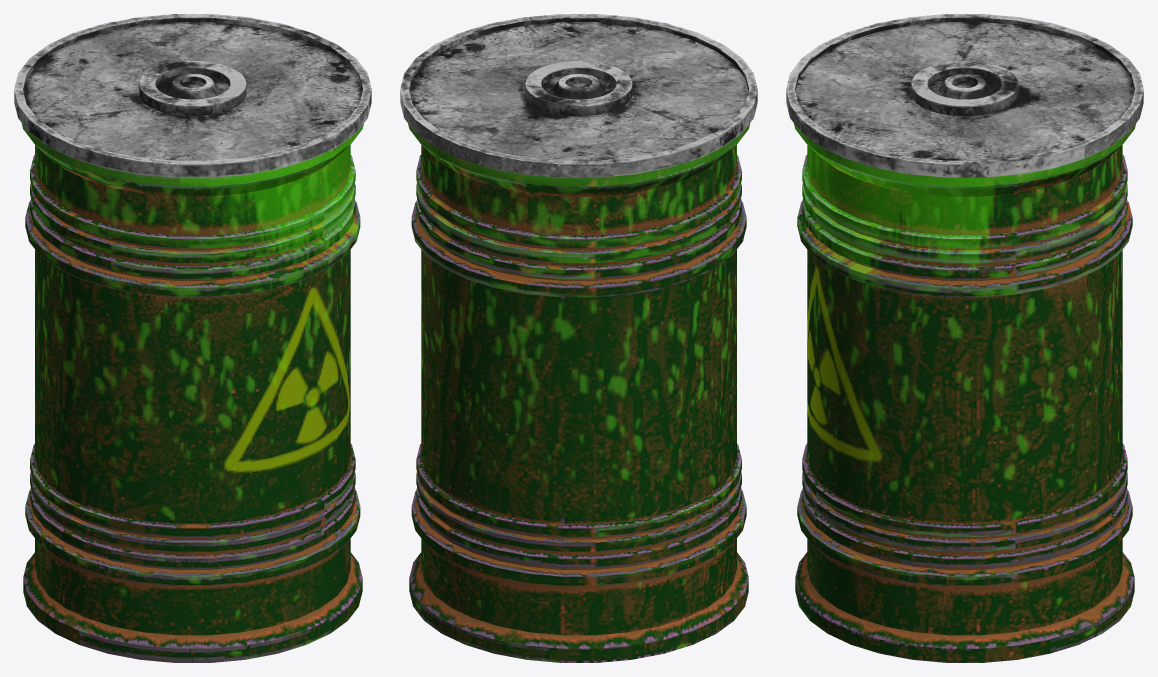
Rendered from ToxicWaste.fbx.
The picture shows the model from 3 angles, left to right: view 1: azimuth 30°, elevation 25°; view 2: azimuth 150°, elevation 25°; view 3: azimuth 270°, elevation 25°; orthographic projection.
Visible parts, largest first — view 1: Cylinder.003; view 2: Cylinder.003; view 3: Cylinder.003.
Boxes of the visible parts, x1=… form: Cylinder.003: x1=14, y1=14, x2=371, y2=662; Cylinder.003: x1=400, y1=14, x2=757, y2=662; Cylinder.003: x1=786, y1=14, x2=1143, y2=662.
Bounding box in the file's own units: 225 × 356 × 227.
Materials: 2 (2 with a texture image).
